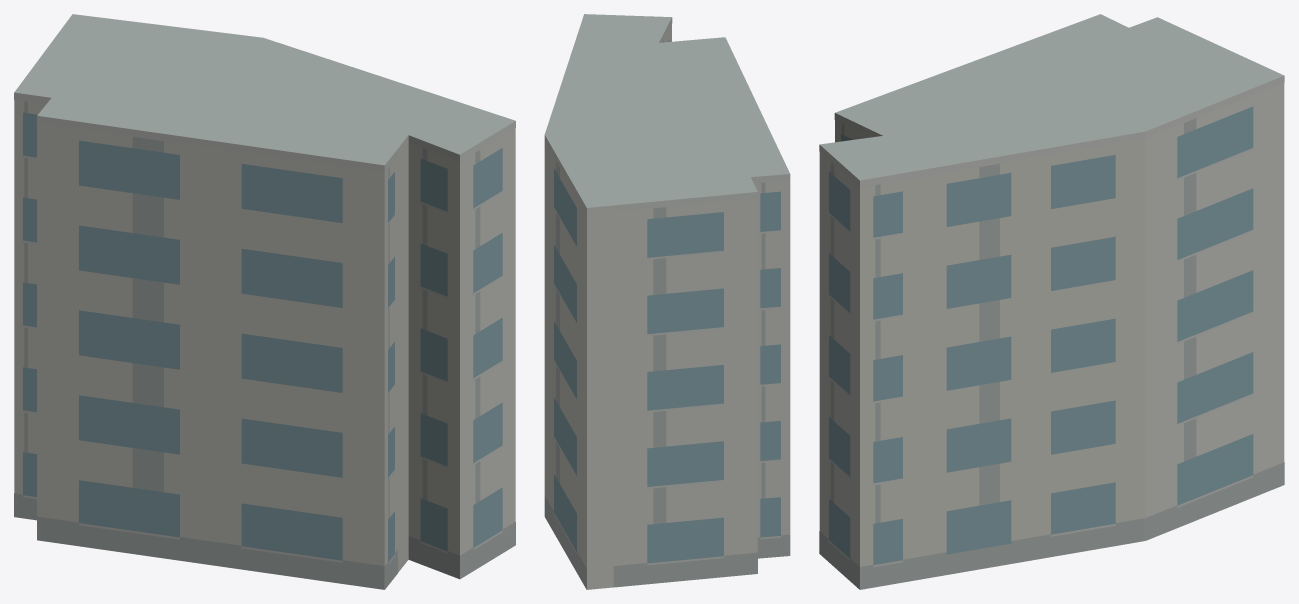
Rendered from survey-upis-32627339.glb.
3 renders of one model, left to right at view 1: azimuth 30°, elevation 25°; view 2: azimuth 150°, elevation 25°; view 3: azimuth 270°, elevation 25°, orthographic. The views are drawn at different scales.
Parts seen in each view (by area): view 1: survey-upis-32627339.tmp; view 2: survey-upis-32627339.tmp; view 3: survey-upis-32627339.tmp.
Boxes of the visible parts, x1,y1,x2,y2 form: survey-upis-32627339.tmp: [14, 14, 515, 589]; survey-upis-32627339.tmp: [544, 14, 790, 589]; survey-upis-32627339.tmp: [819, 14, 1284, 589].
Size of the model in its own units: 12.31 by 14.1 by 14.52.
